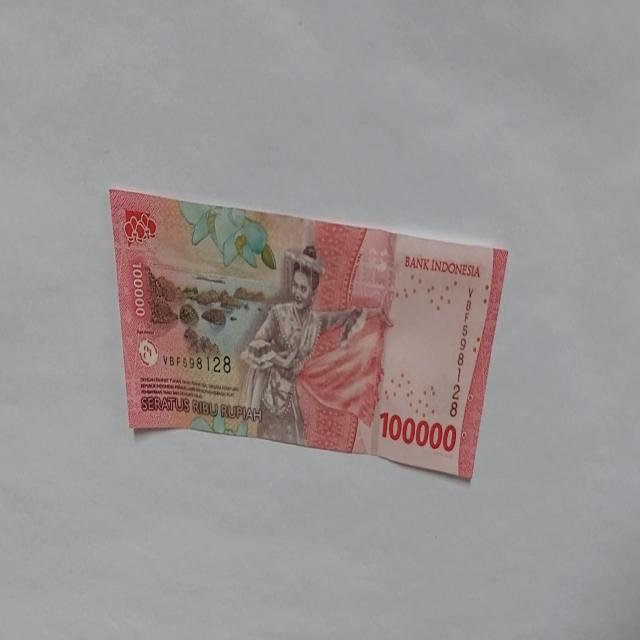seratus ribu rupiah: (108, 187, 509, 482), (238, 244, 386, 447)
